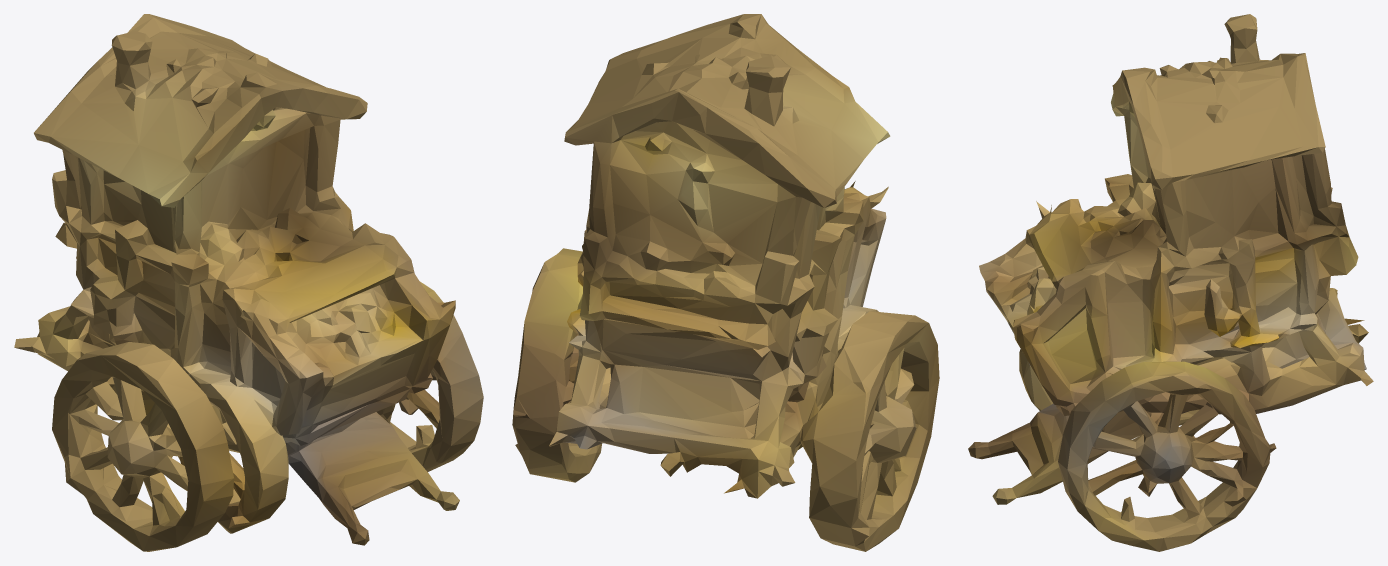
File: altinmadeni.glb
3 views of the same model, side by side, from view 1: azimuth 30°, elevation 25°; view 2: azimuth 150°, elevation 25°; view 3: azimuth 270°, elevation 25° (orthographic). The views are drawn at different scales.
Parts seen in each view (by area): view 1: geometry_0; view 2: geometry_0; view 3: geometry_0.
Boxes of the visible parts, x1=… form: geometry_0: x1=14, y1=14, x2=483, y2=551; geometry_0: x1=512, y1=14, x2=939, y2=551; geometry_0: x1=968, y1=14, x2=1373, y2=551.
Bounding box in the file's own units: 0.777 × 1 × 0.8573.
